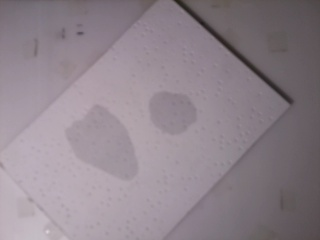Water_detected: (77, 125, 138, 174), (153, 96, 191, 131)
